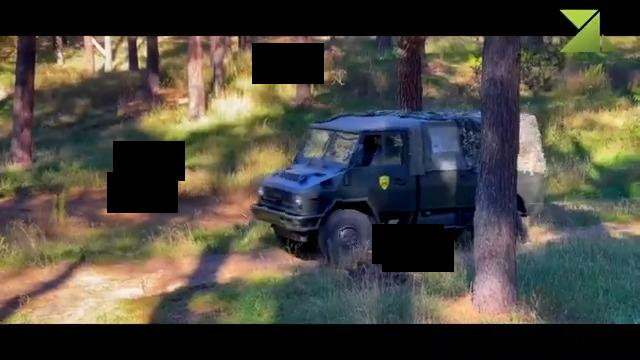MIL_HMMWV: (250, 105, 548, 260)
